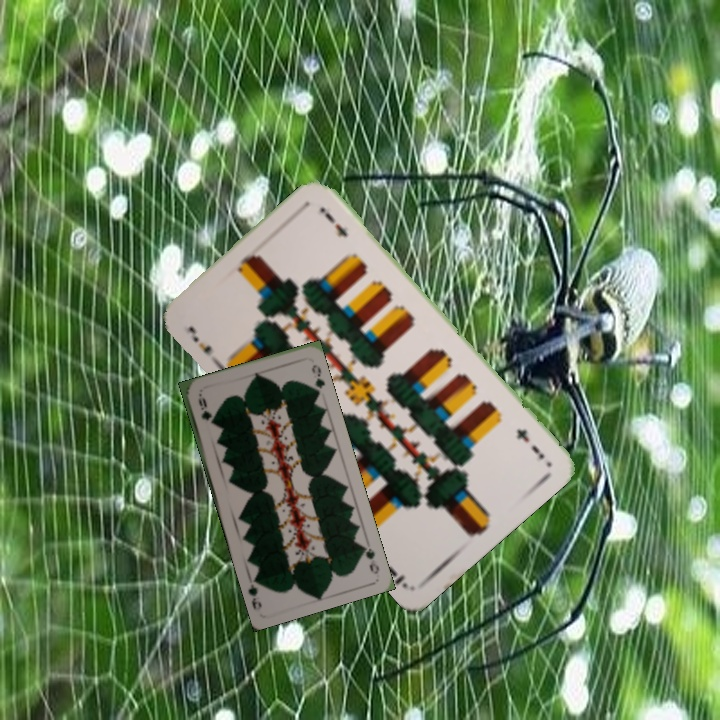E7: (184, 322, 223, 369), (512, 424, 547, 462)
G9: (357, 540, 382, 577), (194, 391, 215, 428)
